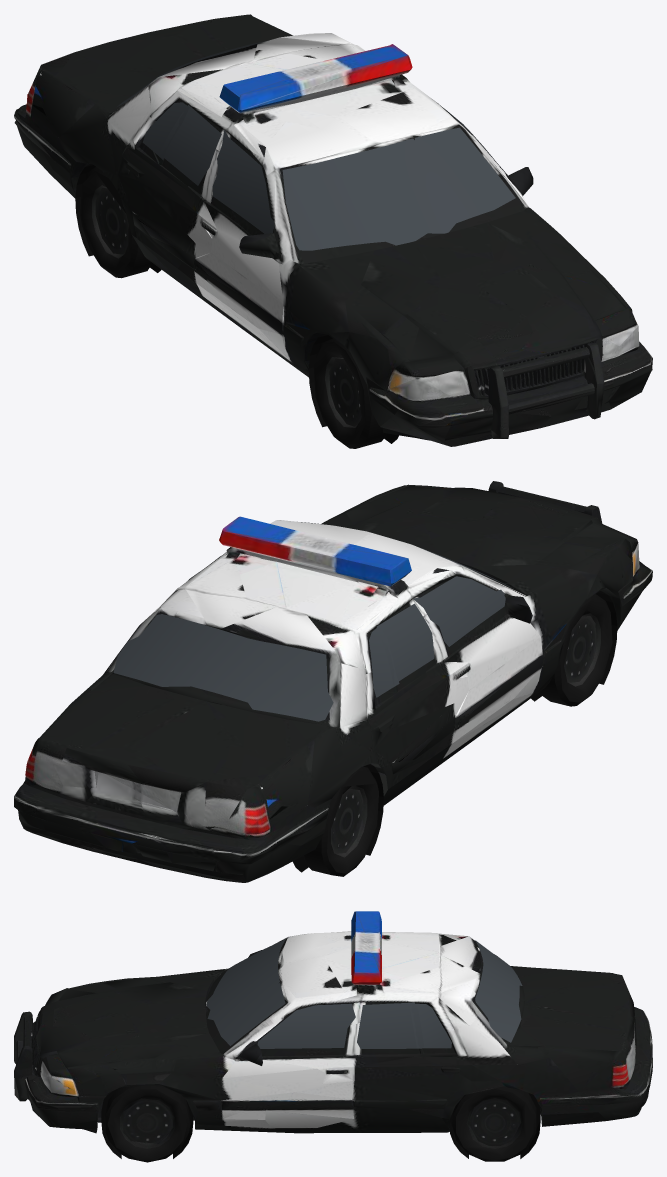
The model's file is police.glb.
3 renders of one model, top to bottom at view 1: azimuth 30°, elevation 25°; view 2: azimuth 150°, elevation 25°; view 3: azimuth 270°, elevation 25°, orthographic. The views are drawn at different scales.
Visible parts, largest first — view 1: body, glass, wheel_fr, wheel_rr; view 2: body, glass, wheel_rr, wheel_fr; view 3: body, glass, wheel_fl, wheel_rl.
Part boxes in pixels (x1,y1,x2,y2): body: (14, 14, 652, 446); glass: (117, 41, 515, 250); wheel_fr: (313, 338, 386, 448); wheel_rr: (80, 167, 152, 278); body: (14, 481, 652, 882); glass: (113, 522, 513, 721); wheel_rr: (303, 766, 378, 876); wheel_fr: (539, 594, 612, 706); body: (14, 911, 652, 1158); glass: (206, 939, 522, 1048); wheel_fl: (104, 1085, 190, 1162); wheel_rl: (452, 1086, 536, 1161).
Bounding box in the file's own units: 2.07 × 1.61 × 5.25.
3 materials, 2 textured.
